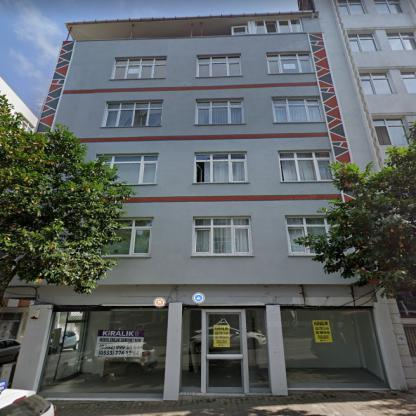door: (202, 310, 248, 394)
window: (38, 306, 168, 398), (280, 304, 390, 389), (180, 305, 270, 393), (192, 217, 252, 255), (286, 215, 329, 256), (104, 218, 151, 255), (193, 152, 247, 182), (280, 152, 333, 182), (101, 101, 163, 126), (107, 154, 158, 184), (272, 97, 324, 123), (196, 99, 244, 124), (112, 57, 166, 78), (372, 118, 409, 146), (198, 55, 240, 76), (268, 54, 314, 73), (359, 71, 395, 94), (250, 19, 302, 33), (348, 33, 379, 51), (386, 32, 414, 50), (374, 0, 406, 13), (338, 1, 366, 14), (400, 70, 415, 94), (232, 26, 247, 36), (22, 120, 33, 132)
